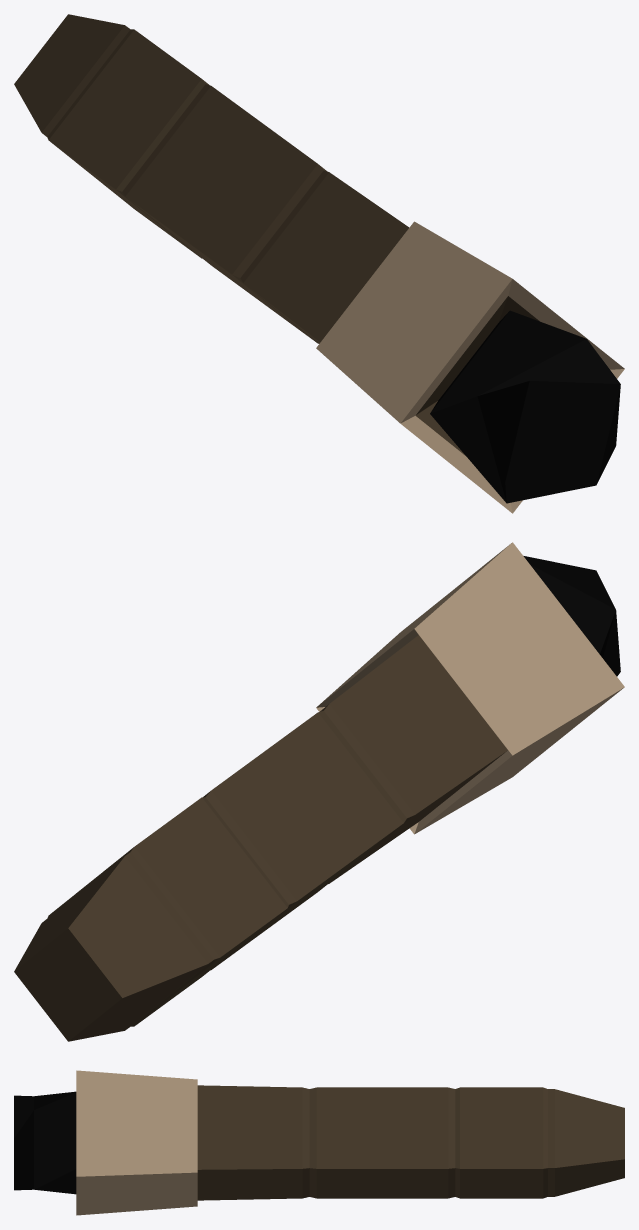
File: Torch.fbx
3 renders of one model, top to bottom at view 1: azimuth 30°, elevation 25°; view 2: azimuth 150°, elevation 25°; view 3: azimuth 270°, elevation 25°, orthographic. The views are drawn at different scales.
Visible parts, largest first — view 1: Torch; view 2: Torch; view 3: Torch.
Part boxes in pixels (box(x1,y1,x2,y2)): Torch: box(14, 14, 624, 513); Torch: box(14, 542, 624, 1041); Torch: box(14, 1070, 624, 1215).
Size of the model in its own units: 17.13 by 17.13 by 65.38.
